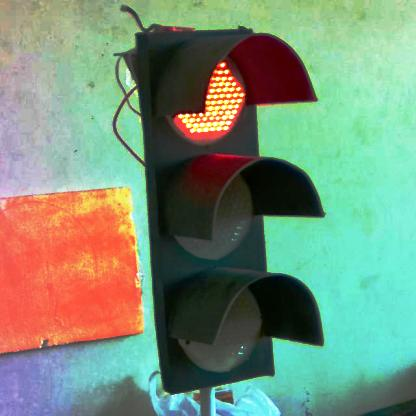Traffic Light -Red-: (137, 30, 324, 393)
